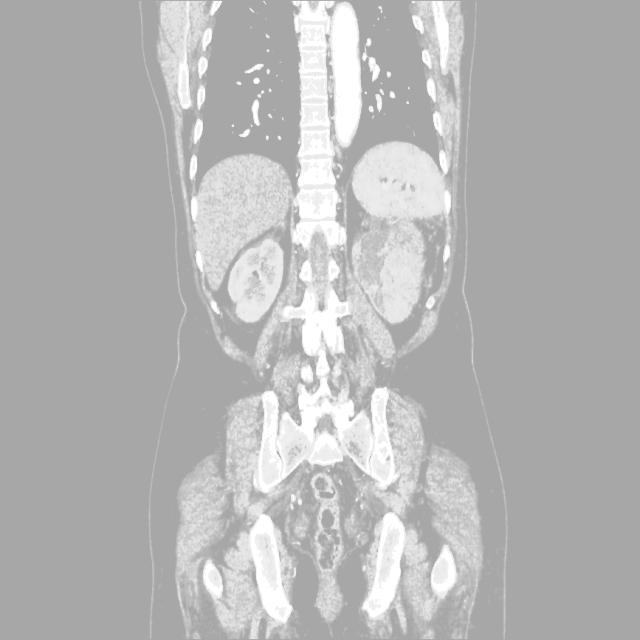TUMOR: (139, 146, 514, 371)
